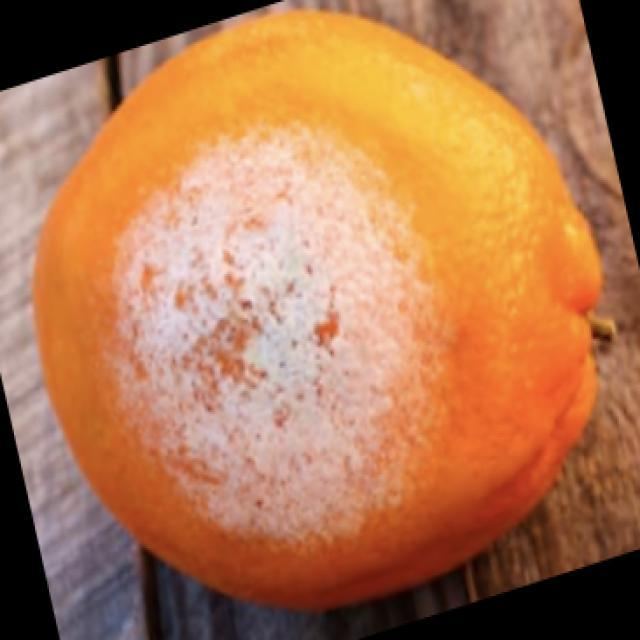sedikit-busuk: (34, 10, 601, 607), (34, 10, 600, 606)
